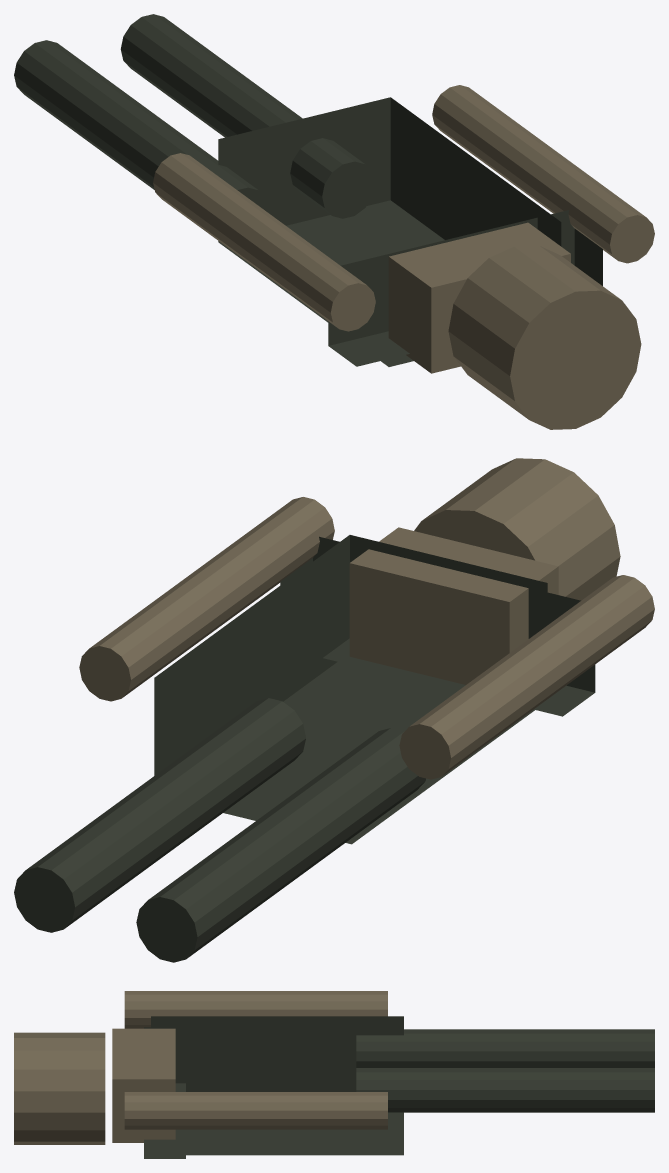
File: enemy_normal_infected_errant.obj
3 views of the same model, one above another, from view 1: azimuth 30°, elevation 25°; view 2: azimuth 150°, elevation 25°; view 3: azimuth 270°, elevation 25° (orthographic). The views are drawn at different scales.
Parts seen in each view (by area): view 1: enemy_normal_infected_errant; view 2: enemy_normal_infected_errant; view 3: enemy_normal_infected_errant.
Boxes of the visible parts, x1,y1,x2,y2 form: enemy_normal_infected_errant: [14, 14, 654, 429]; enemy_normal_infected_errant: [14, 458, 654, 962]; enemy_normal_infected_errant: [14, 991, 654, 1158].
Size of the model in its own units: 0.79 by 0.32 by 1.83.
